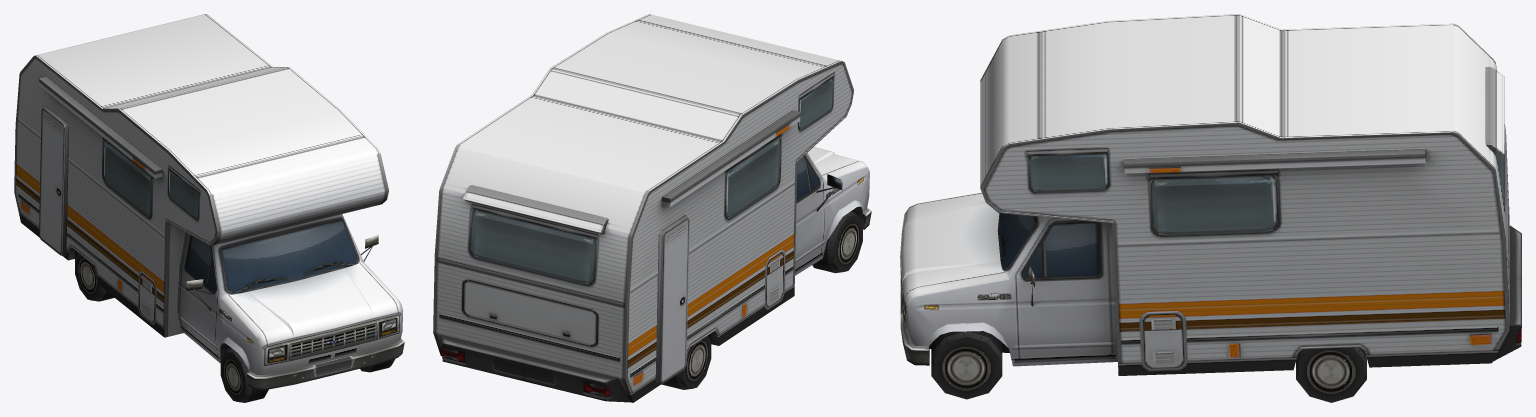
Rendered from traf_caravan.fbx.
3 views of the same model, side by side, from view 1: azimuth 30°, elevation 25°; view 2: azimuth 150°, elevation 25°; view 3: azimuth 270°, elevation 25° (orthographic). The views are drawn at different scales.
Visible parts, largest first — view 1: traf_caravan; view 2: traf_caravan; view 3: traf_caravan.
Part boxes in pixels (x1,y1,x2,y2): traf_caravan: (14,14,404,402); traf_caravan: (433,14,871,402); traf_caravan: (900,14,1521,402).
Size of the model in its own units: 243 by 265 by 524.
